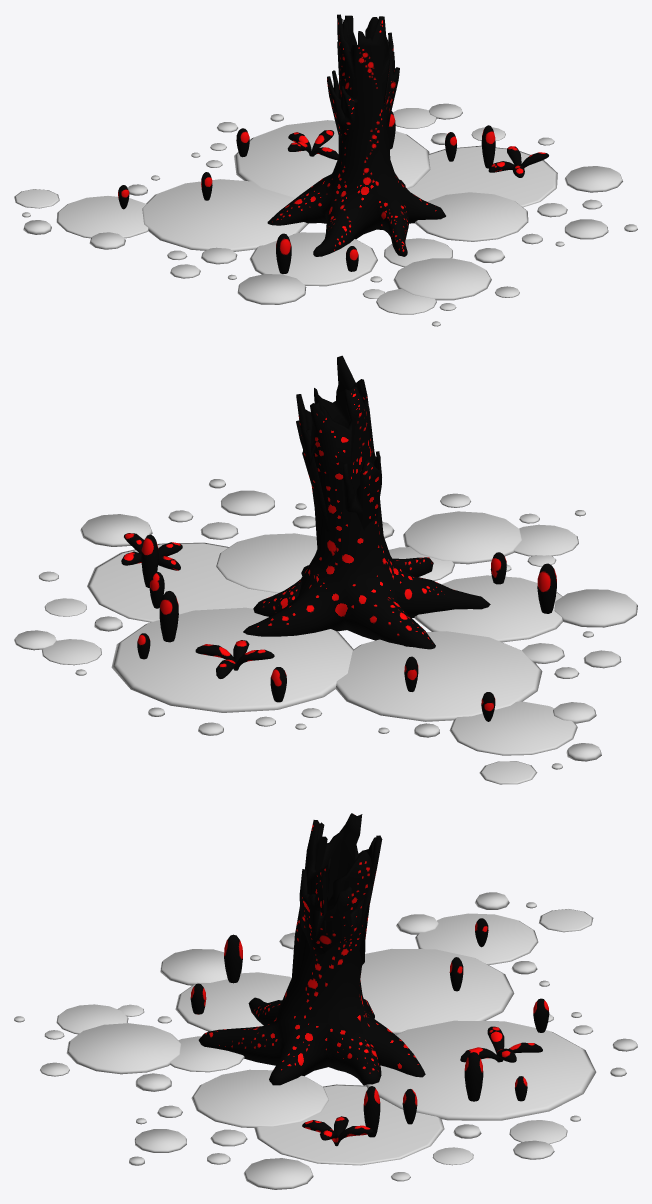
The model's file is CorruptionSet_4.fbx.
3 renders of one model, top to bottom at view 1: azimuth 30°, elevation 25°; view 2: azimuth 150°, elevation 25°; view 3: azimuth 270°, elevation 25°, orthographic. The views are drawn at different scales.
Parts seen in each view (by area): view 1: Circles.004, Tree, Blobs.004, Flowers; view 2: Circles.004, Tree, Blobs.004, Flowers; view 3: Circles.004, Tree, Blobs.004, Flowers.
Boxes of the visible parts, x1,y1,x2,y2 form: Circles.004: (14,103,637,326); Tree: (267,14,445,256); Blobs.004: (118,111,495,273); Flowers: (287,130,548,177); Circles.004: (14,479,637,784); Tree: (243,355,490,649); Blobs.004: (137,534,556,721); Flowers: (121,533,274,678); Circles.004: (14,892,637,1189); Tree: (198,813,425,1085); Blobs.004: (190,918,549,1137); Flowers: (302,1026,542,1146).
Bounding box in the file's own units: 806 × 314 × 723.
